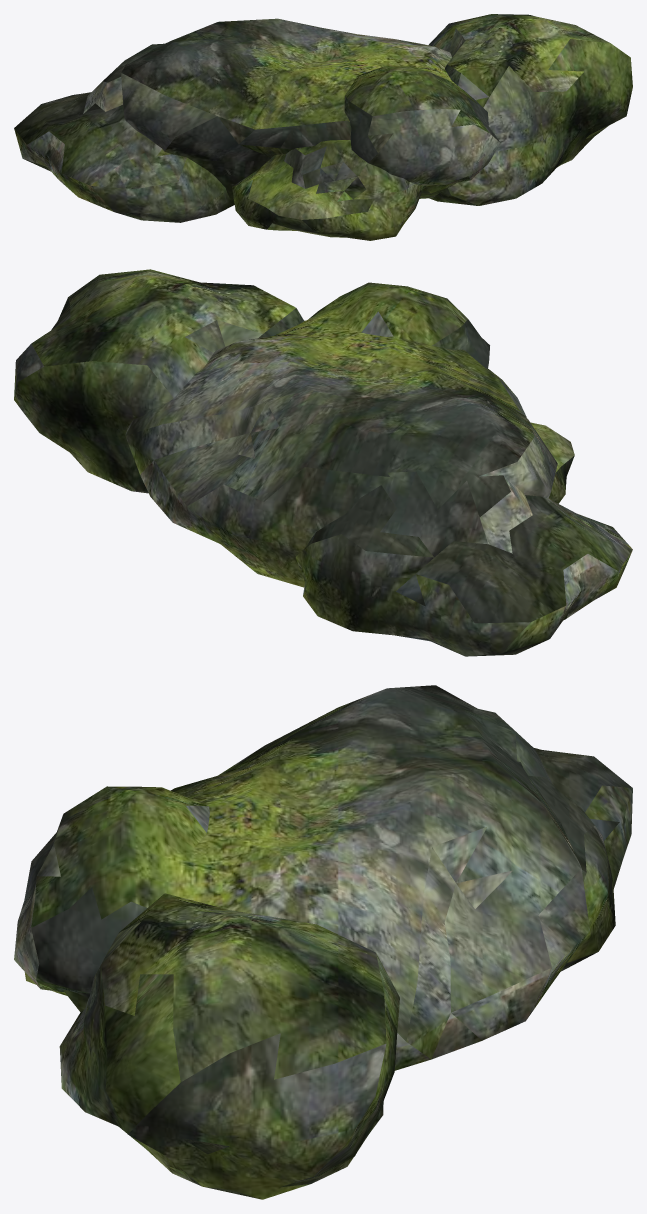
Rendered from rock_shore_riprap.glb.
3 views of the same model, one above another, from view 1: azimuth 30°, elevation 25°; view 2: azimuth 150°, elevation 25°; view 3: azimuth 270°, elevation 25° (orthographic). The views are drawn at different scales.
Visible parts, largest first — view 1: rock_shore_riprap; view 2: rock_shore_riprap; view 3: rock_shore_riprap.
Part boxes in pixels (x1,y1,x2,y2): rock_shore_riprap: [14, 14, 632, 240]; rock_shore_riprap: [14, 269, 632, 656]; rock_shore_riprap: [14, 685, 632, 1199].
Size of the model in its own units: 3.37 by 0.9431 by 2.18.
1 material, 1 textured.
